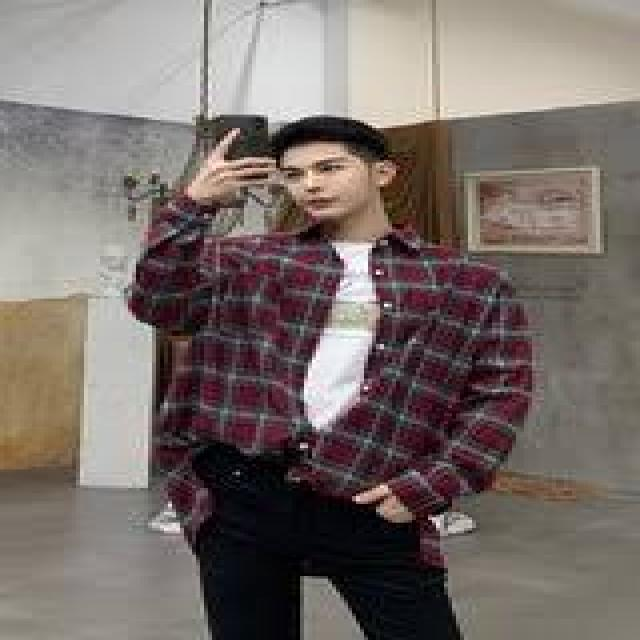plaid: (114, 214, 559, 524)
